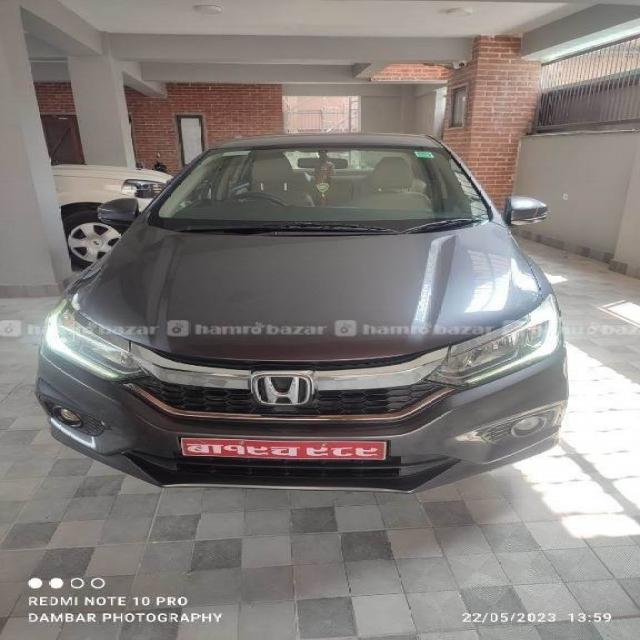License-plate: (169, 426, 404, 472)
